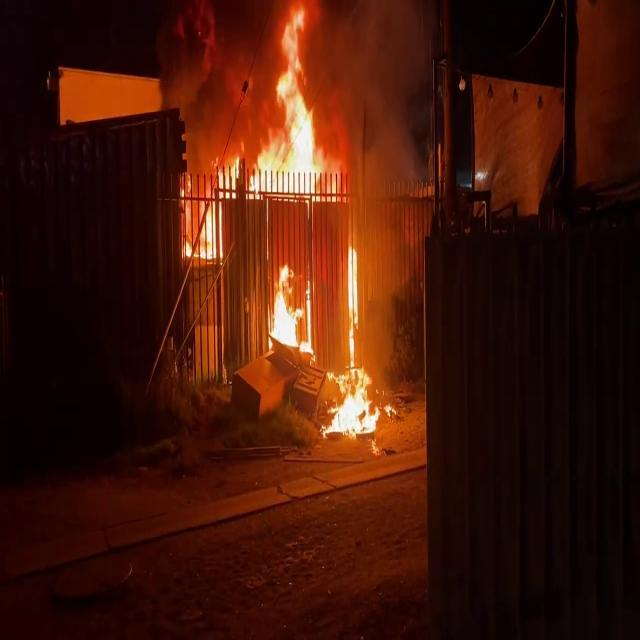Fire: (322, 242, 388, 440), (266, 266, 312, 356)
